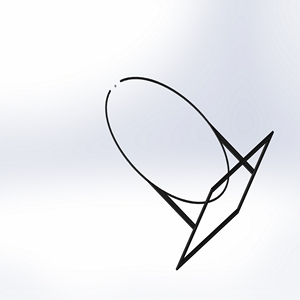circle: (101, 74, 277, 272)
